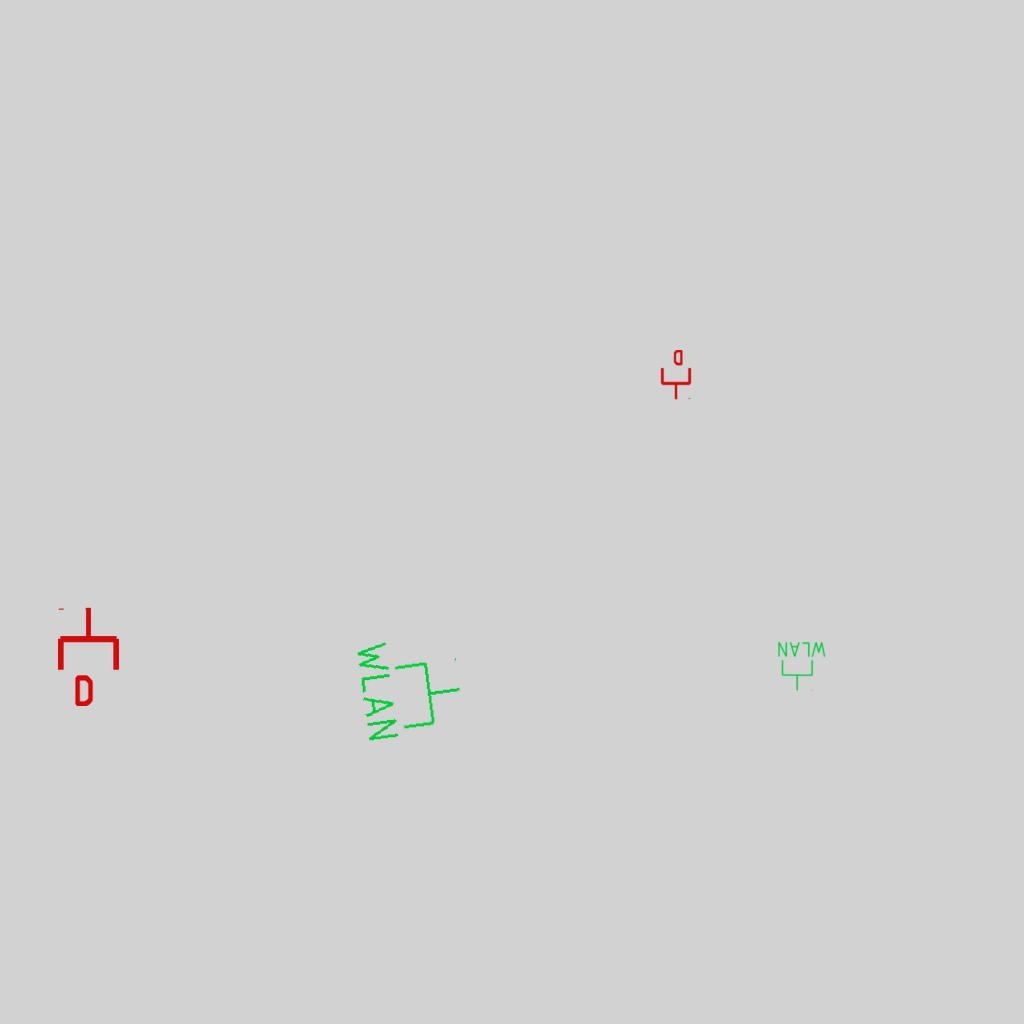Datenanschluss_einfach: (54, 606, 123, 706), (659, 350, 693, 400)
WLAN: (351, 627, 469, 746), (776, 640, 828, 692)
